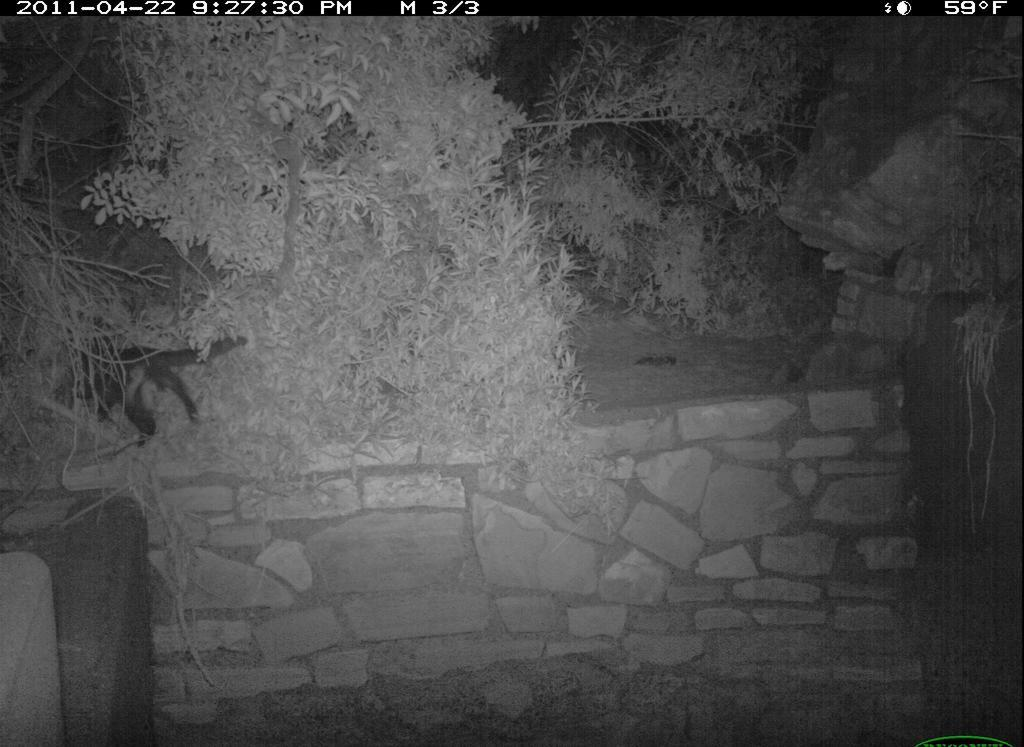cat: (39, 319, 248, 447)
